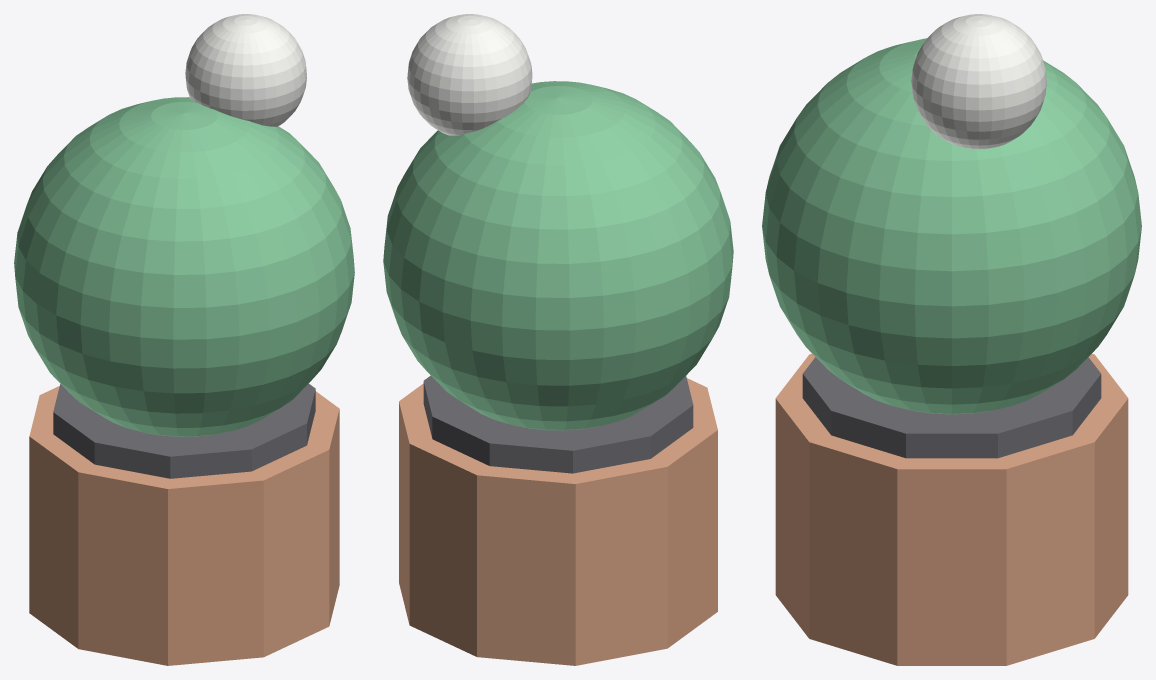
The model's file is planter.glb.
The picture shows the model from 3 angles, left to right: view 1: azimuth 30°, elevation 25°; view 2: azimuth 150°, elevation 25°; view 3: azimuth 270°, elevation 25°; orthographic projection. The views are drawn at different scales.
Parts seen in each view (by area): view 1: shrub, pot, soil, Flower; view 2: shrub, pot, soil, Flower; view 3: shrub, pot, soil, Flower.
Boxes of the visible parts, x1,y1,x2,y2 form: shrub: (14,97,354,436); pot: (29,386,339,665); soil: (53,383,315,478); Flower: (185,14,306,126); shrub: (383,81,733,430); pot: (399,378,717,665); soil: (423,375,693,473); Flower: (407,14,532,135); shrub: (762,38,1141,414); pot: (775,353,1128,665); soil: (802,357,1101,458); Flower: (911,14,1046,149).
Bounding box in the file's own units: 0.28 × 0.5 × 0.28.
